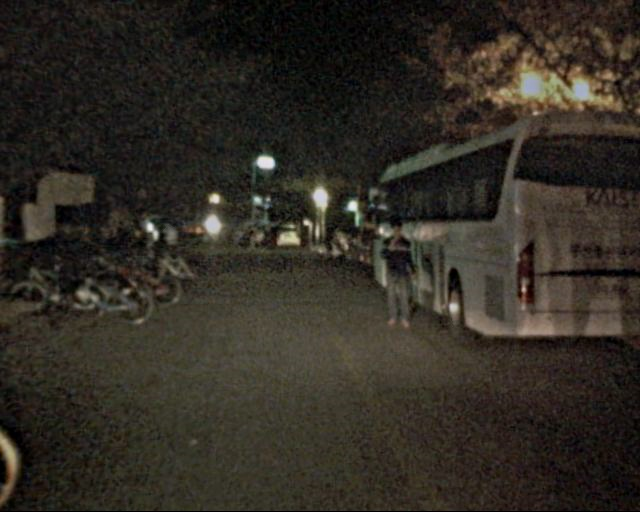person: (373, 219, 421, 336), (159, 215, 184, 275)
